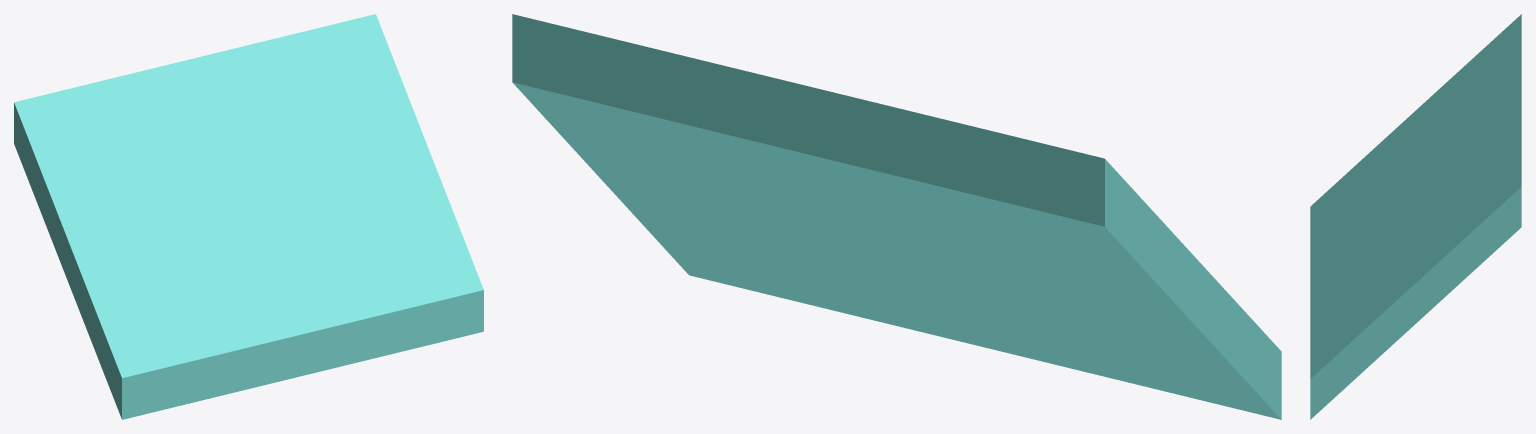
Rendered from platform01.fbx.
3 views of the same model, side by side, from view 1: azimuth 30°, elevation 25°; view 2: azimuth 150°, elevation 25°; view 3: azimuth 270°, elevation 25° (orthographic). The views are drawn at different scales.
Visible parts, largest first — view 1: platform01; view 2: platform01; view 3: platform01.
Part boxes in pixels (x1,y1,x2,y2): platform01: (14, 14, 483, 419); platform01: (512, 14, 1281, 419); platform01: (1310, 14, 1521, 419).
Bounding box in the file's own units: 131 × 82.31 × 67.53.
